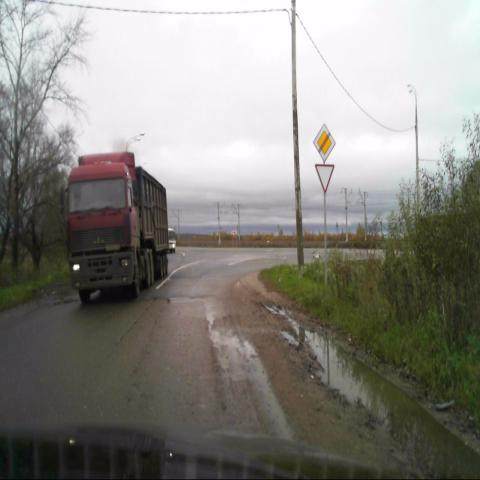2_2: (313, 122, 336, 163)
